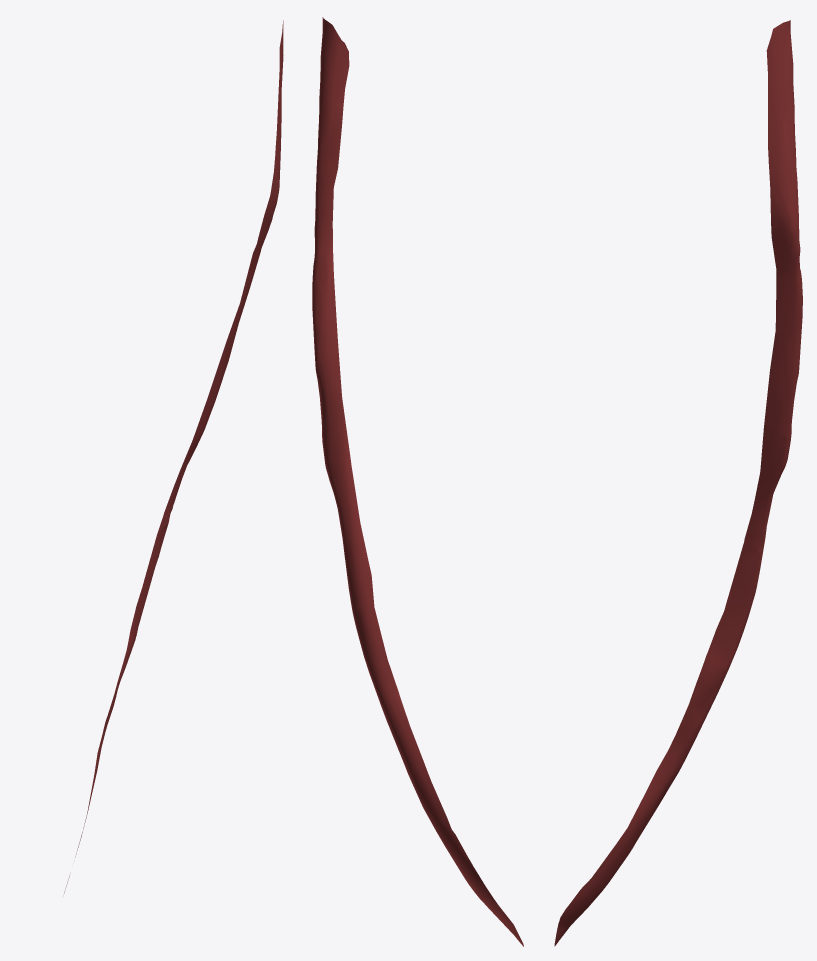
Rendered from rhomboid-major-muscle-er.glb.
3 views of the same model, side by side, from view 1: azimuth 30°, elevation 25°; view 2: azimuth 150°, elevation 25°; view 3: azimuth 330°, elevation 25° (orthographic). The views are drawn at different scales.
Visible parts, largest first — view 1: Rhomboid major muscle.er; view 2: Rhomboid major muscle.er; view 3: Rhomboid major muscle.er.
Part boxes in pixels (x1,y1,x2,y2): Rhomboid major muscle.er: [64, 20, 283, 893]; Rhomboid major muscle.er: [312, 17, 523, 946]; Rhomboid major muscle.er: [554, 20, 802, 946].
Size of the model in its own units: 0.0276 by 0.0998 by 0.0129.
